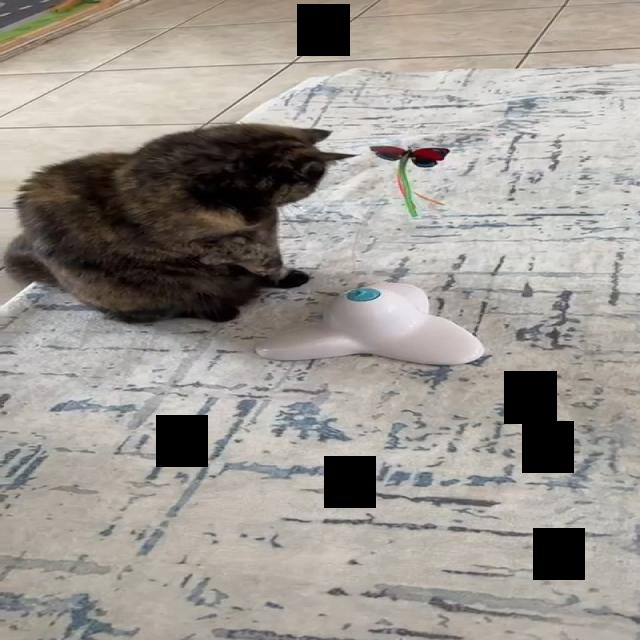authorized: (0, 121, 359, 324)
